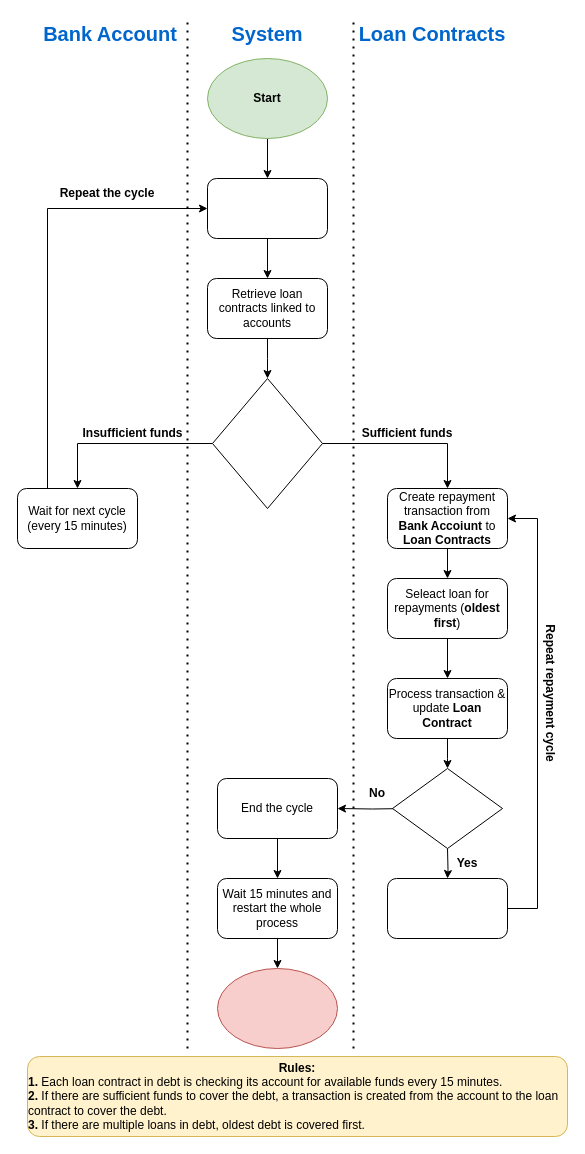
Image size: 585x1154. Some labels were removed from this diagram. The centre of each missing label's shape, as x and y in pixels:
Any remaining loans?: pixel 447 808
Check available funds in Bank Account: pixel 267 443
End: pixel 277 1008
Repeat repayment: pixel 447 908
System checks loan accounts (every 15 minutes): pixel 267 208
